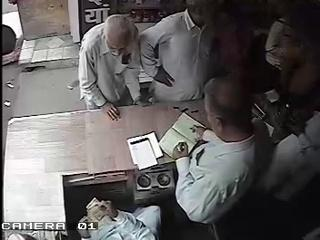Normal: (172, 74, 274, 229), (140, 0, 222, 104), (78, 13, 148, 122), (158, 110, 208, 160)
